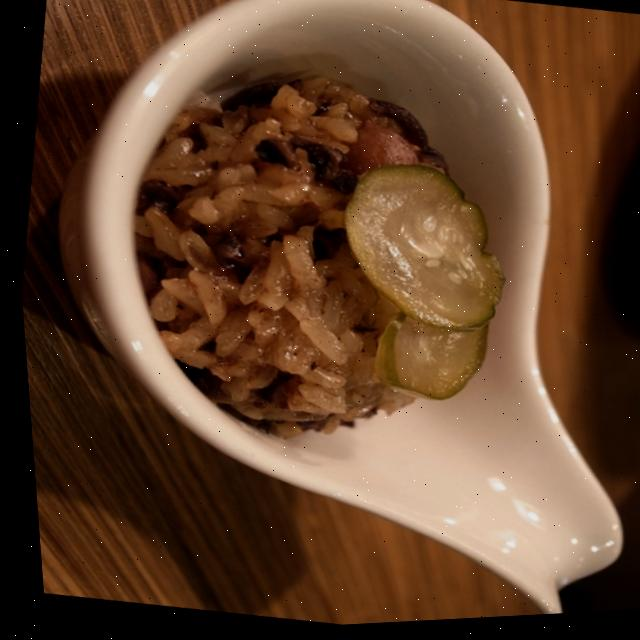米饭主食: (102, 52, 532, 474)
